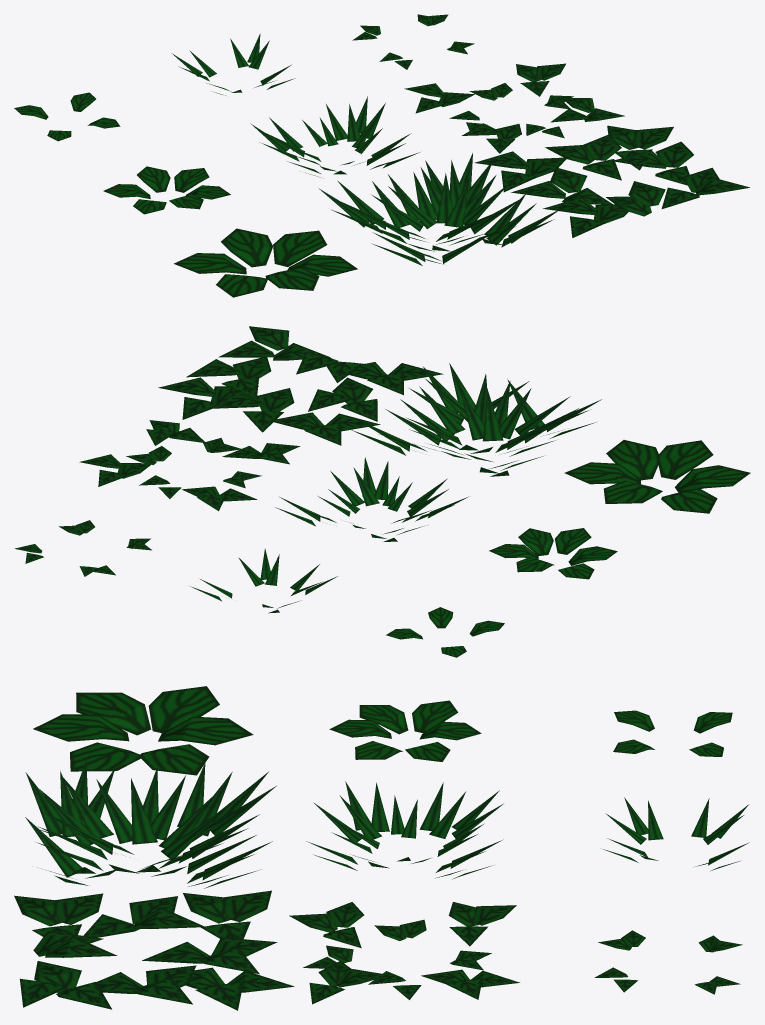
The model's file is Weeds.fbx.
3 renders of one model, top to bottom at view 1: azimuth 30°, elevation 25°; view 2: azimuth 150°, elevation 25°; view 3: azimuth 270°, elevation 25°, orthographic. The views are drawn at different scales.
Visible parts, largest first — view 1: WeedDecorative3, WeedWild3, WeedExotic3, WeedDecorative2, WeedWild2, WeedExotic2, WeedWild1, WeedExotic1, WeedDecorative1; view 2: WeedDecorative3, WeedWild3, WeedExotic3, WeedDecorative2, WeedExotic2, WeedWild2, WeedWild1, WeedExotic1, WeedDecorative1; view 3: WeedDecorative3, WeedWild3, WeedExotic3, WeedDecorative2, WeedWild2, WeedExotic2, WeedWild1, WeedExotic1, WeedDecorative1.
Boxes of the visible parts, left/top/right/bottom form: WeedDecorative3: left=474, top=125, right=749, bottom=237; WeedWild3: left=319, top=153, right=561, bottom=265; WeedExotic3: left=174, top=228, right=357, bottom=297; WeedDecorative2: left=404, top=63, right=624, bottom=153; WeedWild2: left=250, top=96, right=419, bottom=177; WeedExotic2: left=103, top=166, right=230, bottom=214; WeedWild1: left=171, top=33, right=295, bottom=95; WeedExotic1: left=14, top=92, right=120, bottom=141; WeedDecorative1: left=352, top=14, right=474, bottom=69; WeedDecorative3: left=158, top=326, right=443, bottom=445; WeedWild3: left=351, top=363, right=601, bottom=476; WeedExotic3: left=564, top=440, right=750, bottom=513; WeedDecorative2: left=79, top=420, right=300, bottom=511; WeedExotic2: left=489, top=528, right=617, bottom=579; WeedWild2: left=275, top=457, right=468, bottom=541; WeedWild1: left=190, top=548, right=337, bottom=613; WeedExotic1: left=386, top=607, right=504, bottom=657; WeedDecorative1: left=15, top=520, right=151, bottom=576; WeedDecorative3: left=14, top=890, right=294, bottom=1010; WeedWild3: left=25, top=760, right=276, bottom=888; WeedExotic3: left=33, top=686, right=253, bottom=775; WeedDecorative2: left=289, top=902, right=519, bottom=1004; WeedWild2: left=306, top=781, right=503, bottom=879; WeedExotic2: left=329, top=700, right=481, bottom=761; WeedWild1: left=603, top=797, right=749, bottom=870; WeedExotic1: left=613, top=710, right=732, bottom=756; WeedDecorative1: left=594, top=930, right=742, bottom=994.
Size of the model in its own units: 297 by 15.49 by 281.
